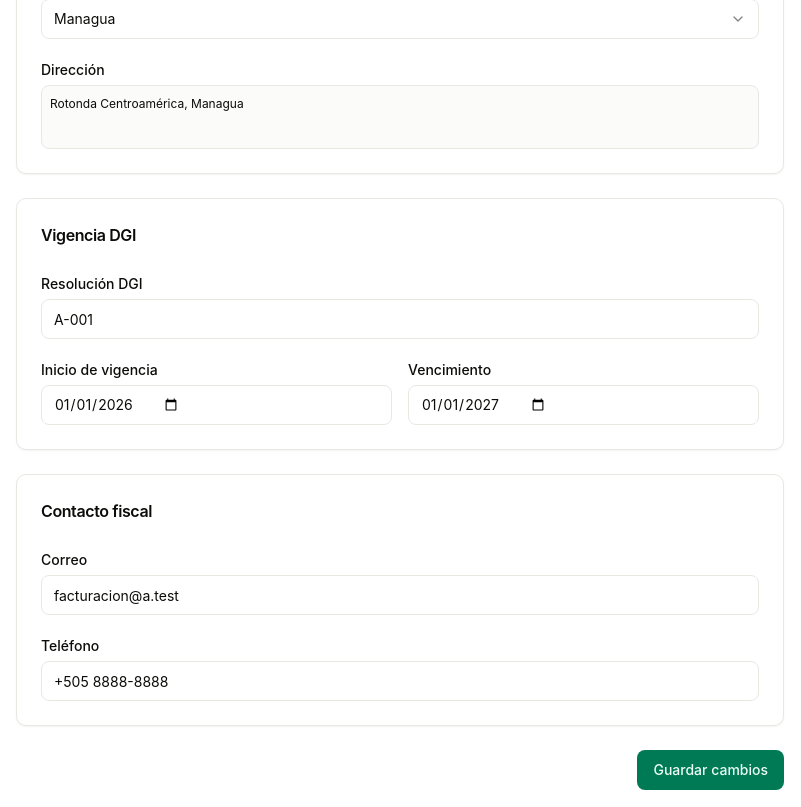
Scenario: EmpresaFiscalSettingsForm — date cross-validation › blocks save when vencimiento is before inicio
(page scrolled)
Type "2025-01-01" into the date field labelled "Vencimiento".
click(584, 405); type("2025-01-01")  # box [408,385,759,425]
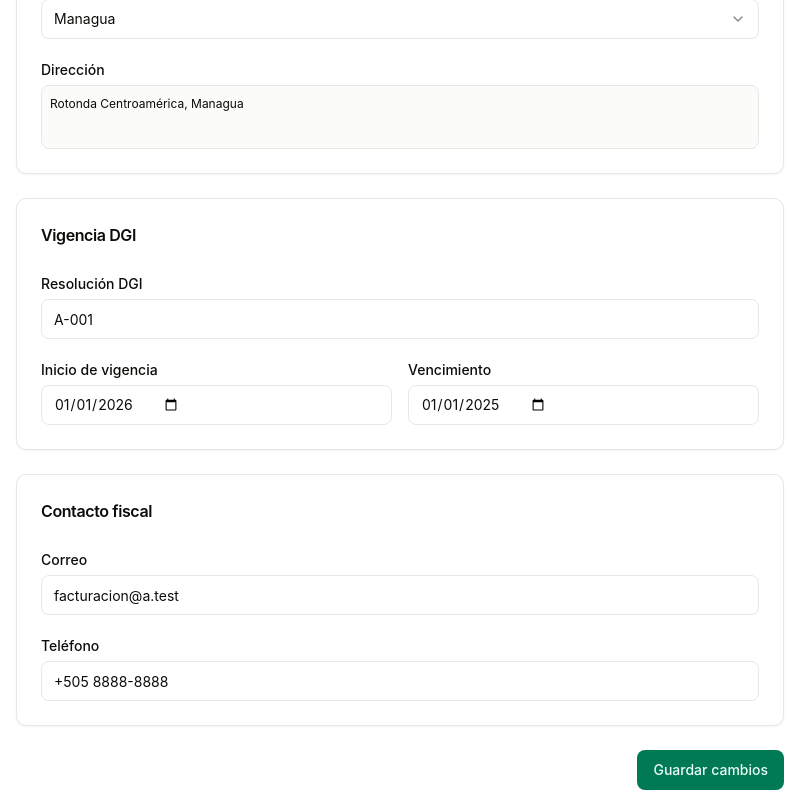
Click the button "Guardar cambios".
click(711, 770)  # box [638,750,784,790]
(page scrolled)
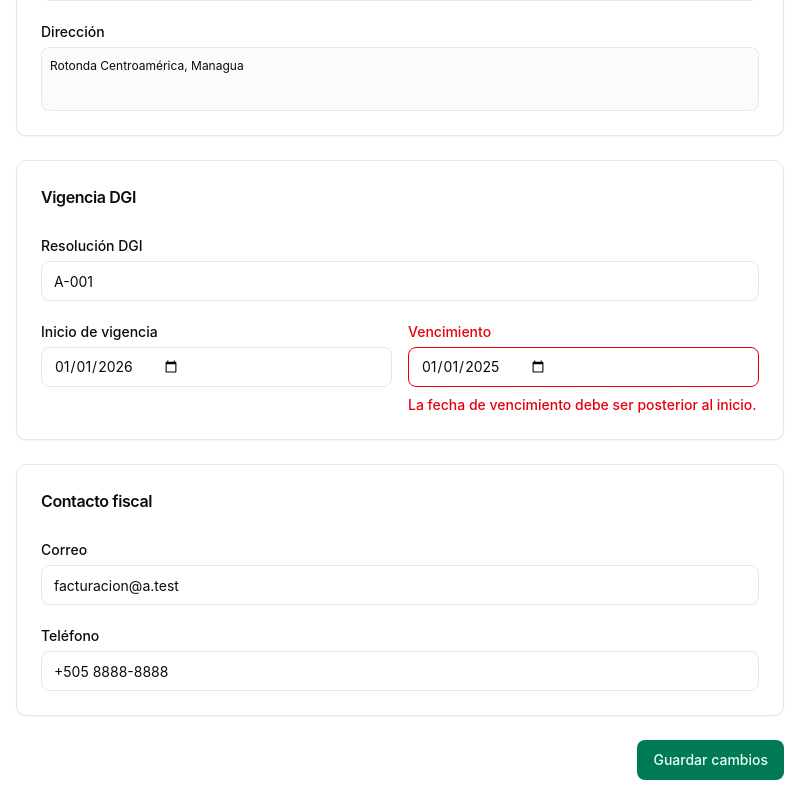
Expected: the text "La fecha de vencimiento debe ser posterior al inicio." is shown, [408,395,759,415]
